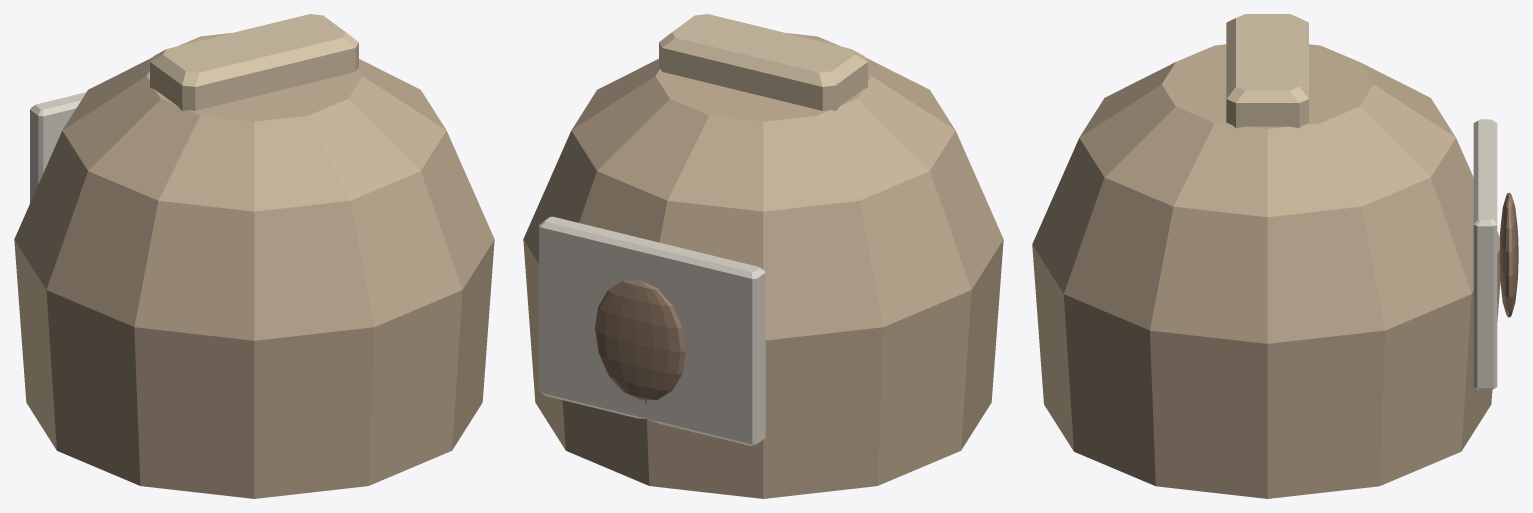
File: beans.glb
3 views of the same model, side by side, from view 1: azimuth 30°, elevation 25°; view 2: azimuth 150°, elevation 25°; view 3: azimuth 270°, elevation 25° (orthographic). The views are drawn at different scales.
Parts seen in each view (by area): view 1: beans; view 2: beans; view 3: beans.
Boxes of the visible parts, x1,y1,x2,y2 form: beans: (14,14,494,498); beans: (523,14,1003,498); beans: (1032,14,1518,498).
Size of the model in its own units: 0.4 by 0.37 by 0.4132.
